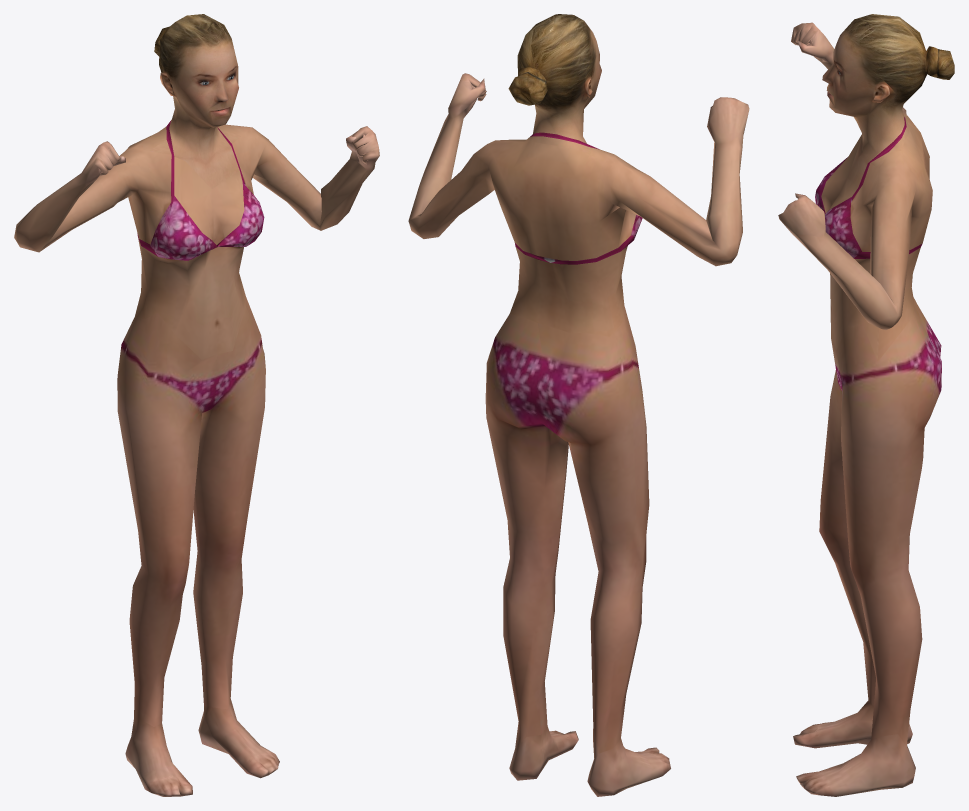
File: Sports_Female_01_cheer.glb
The picture shows the model from 3 angles, left to right: view 1: azimuth 30°, elevation 25°; view 2: azimuth 150°, elevation 25°; view 3: azimuth 270°, elevation 25°; orthographic projection. The views are drawn at different scales.
Visible parts, largest first — view 1: f021_hipoly_81_bones_b; view 2: f021_hipoly_81_bones_b; view 3: f021_hipoly_81_bones_b.
Boxes of the visible parts, x1,y1,x2,y2 form: f021_hipoly_81_bones_b: (14,14,379,796); f021_hipoly_81_bones_b: (408,14,749,796); f021_hipoly_81_bones_b: (778,14,954,796).
Size of the model in its own units: 0.7985 by 1.74 by 0.3686.
Materials: 2 (2 with a texture image).
